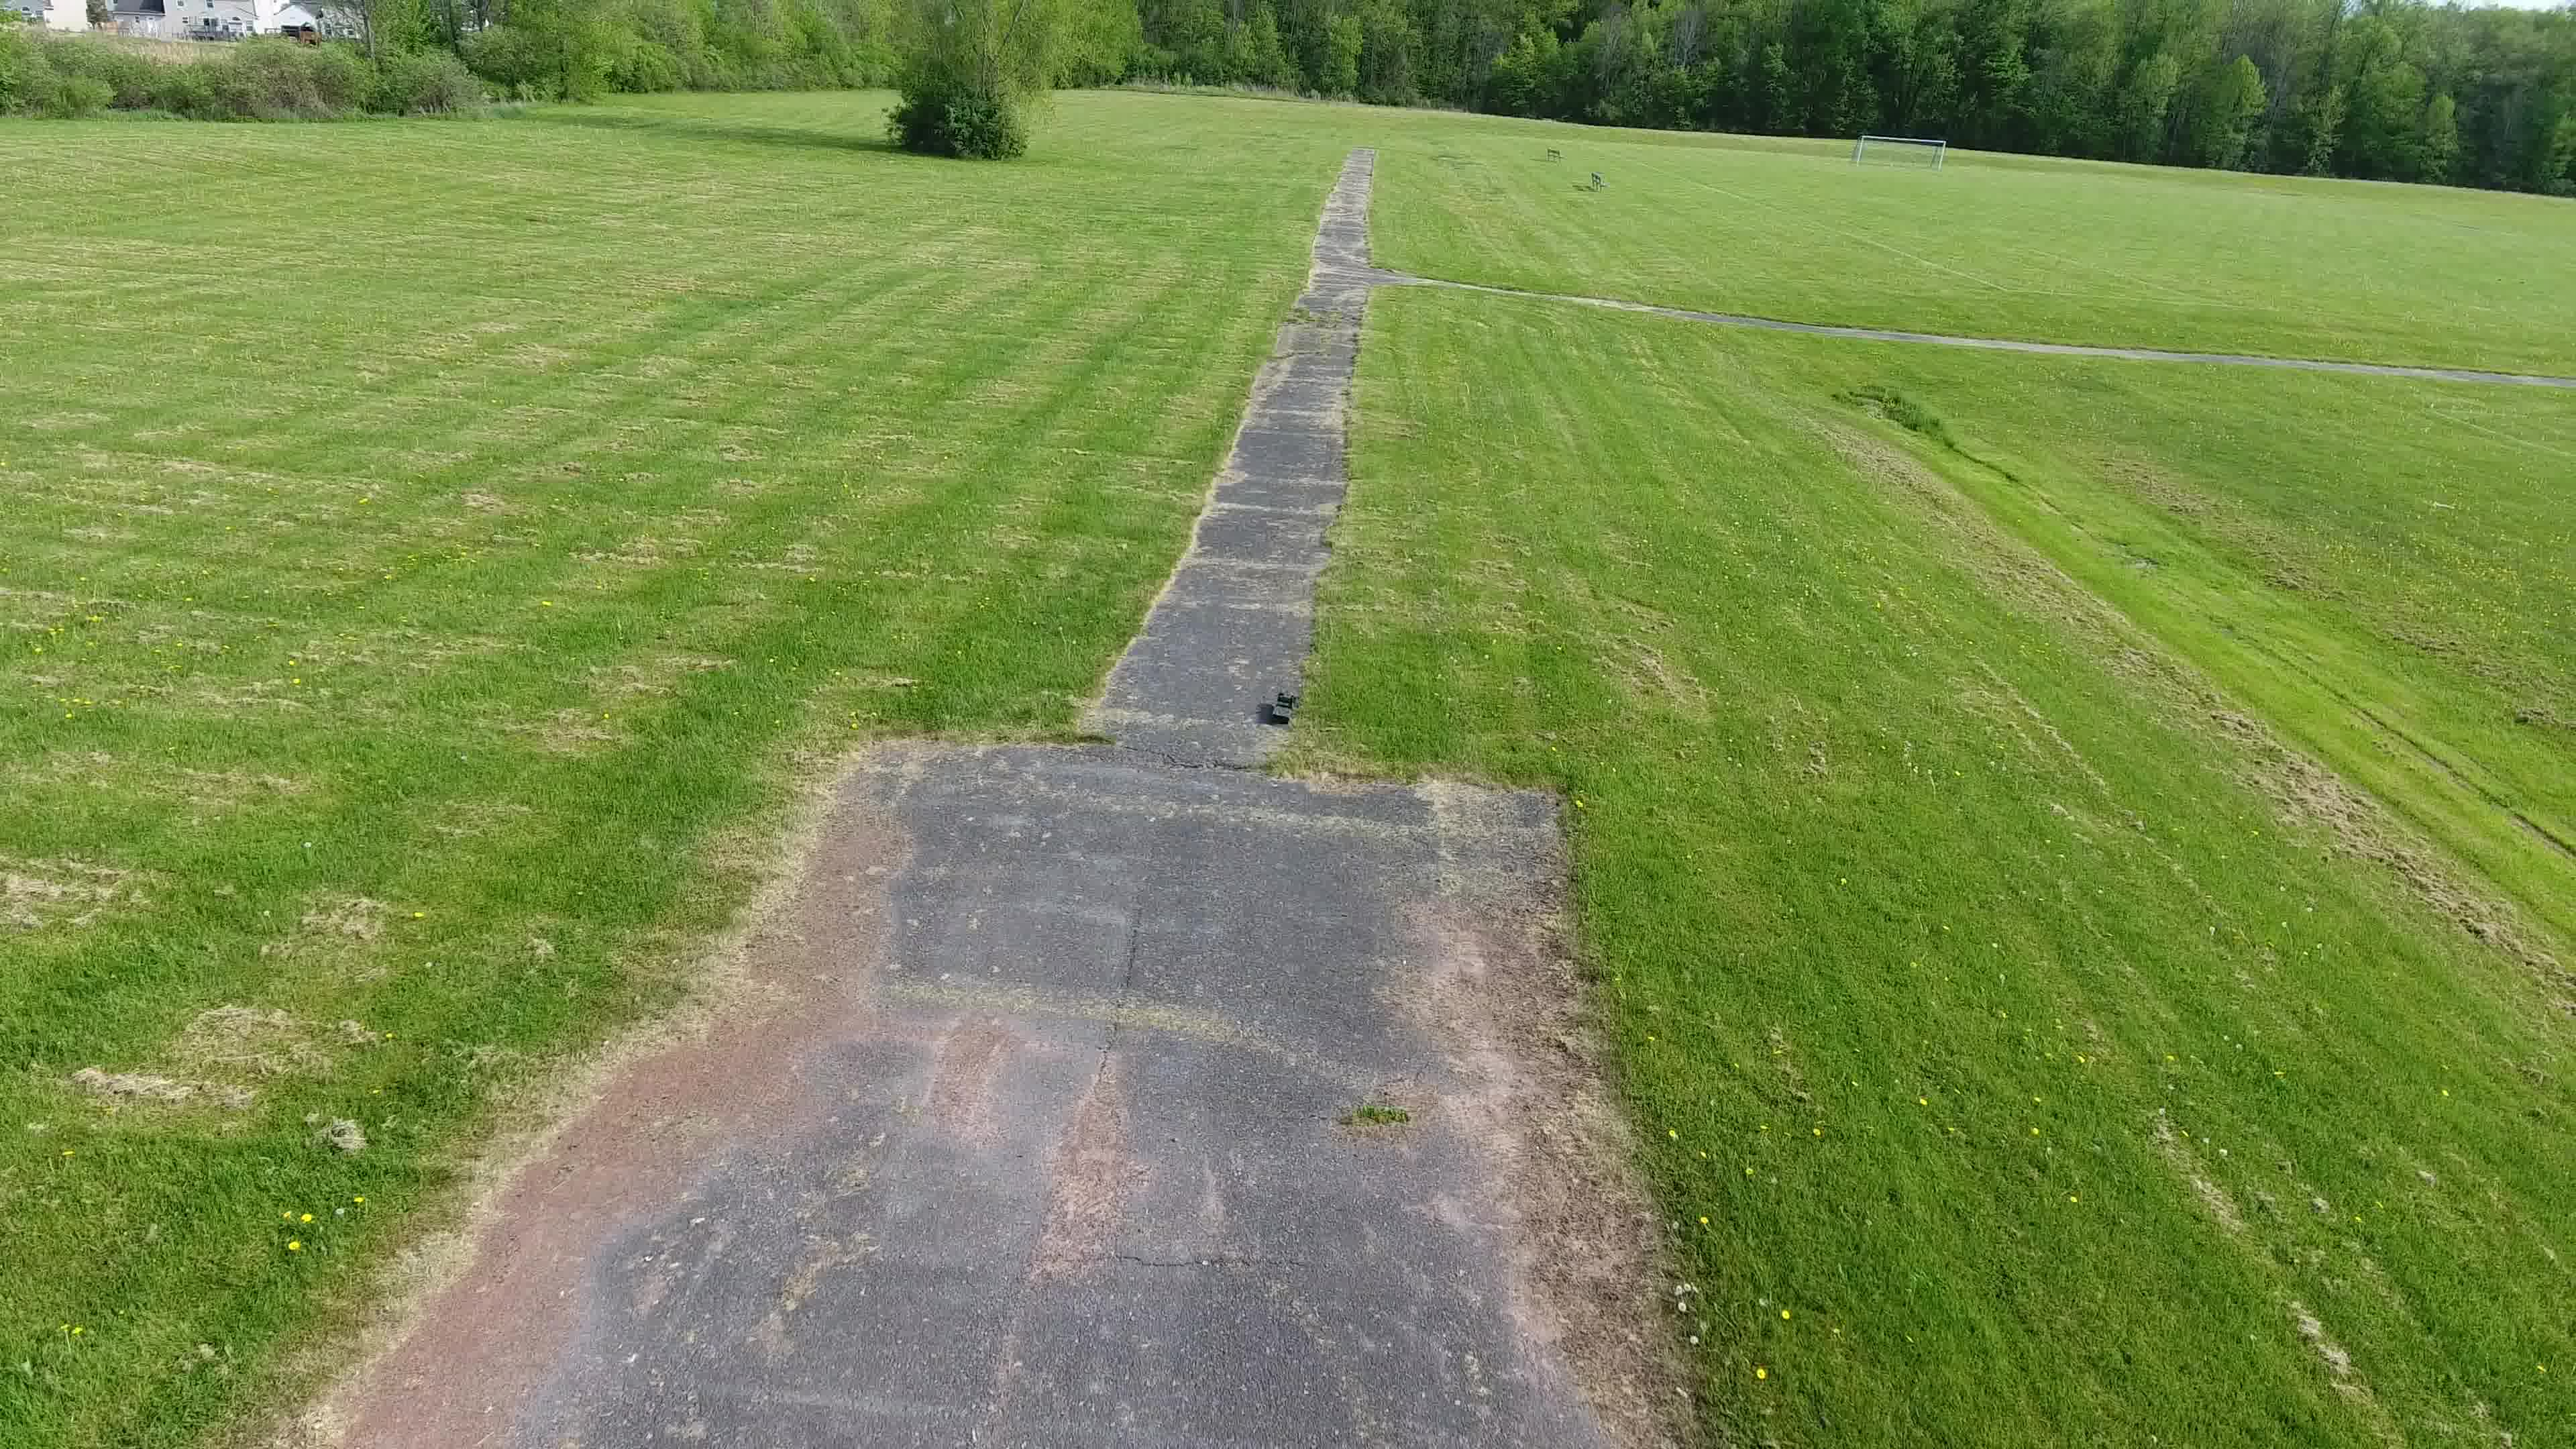transporter9_camo: (1267, 690, 1302, 725)
